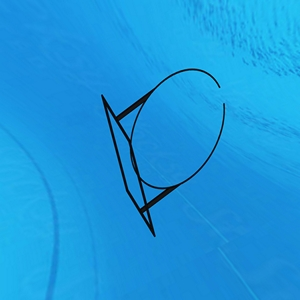circle: (99, 66, 226, 238)
